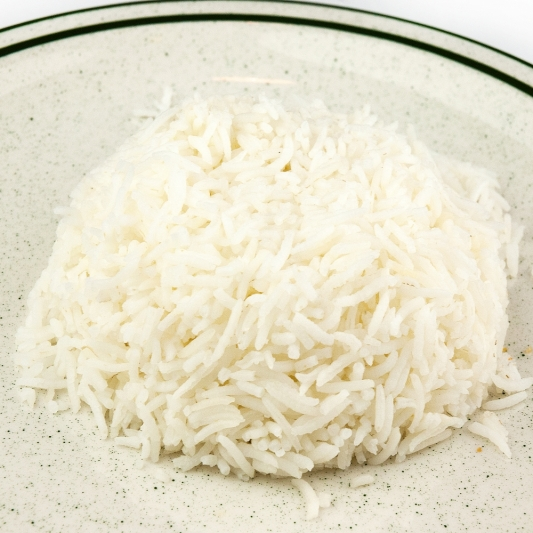plain rice: (10, 83, 533, 478)
